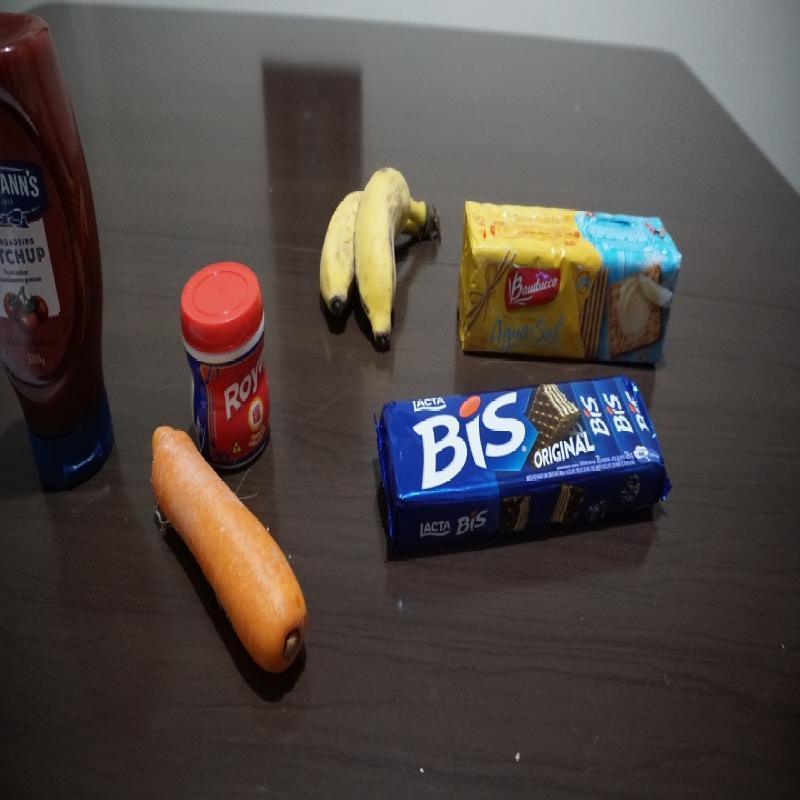Banana: (320, 166, 440, 351)
Carrot: (150, 425, 311, 676)
Cracker: (458, 199, 683, 368)
Ketchup: (0, 15, 118, 487)
Yeast: (179, 258, 272, 474)
